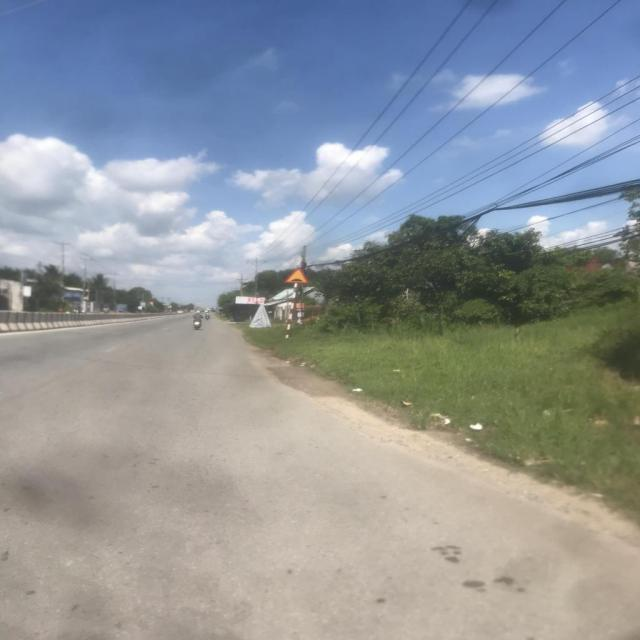duong_co_song_map_mo_nhan_tao: (284, 266, 309, 283)
